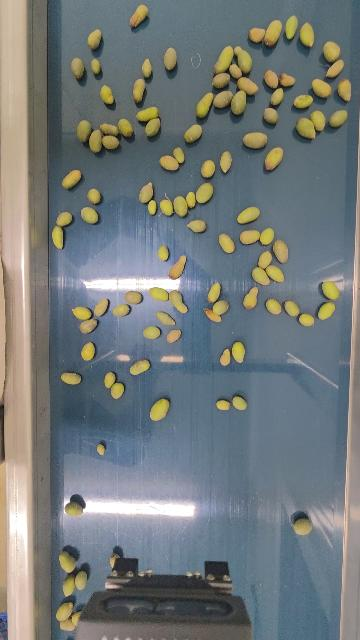Baby Potato: (195, 89, 215, 120), (213, 45, 234, 74), (263, 145, 284, 172), (264, 19, 283, 47), (234, 46, 253, 74), (149, 397, 170, 422), (168, 289, 189, 314), (242, 131, 269, 150), (237, 205, 261, 226), (129, 3, 149, 28), (272, 238, 290, 265), (311, 77, 333, 99), (296, 117, 317, 140), (168, 254, 187, 279), (230, 90, 248, 116), (322, 40, 342, 63), (293, 516, 315, 536), (236, 76, 259, 95), (195, 182, 214, 205), (284, 14, 300, 41), (321, 280, 341, 301), (61, 169, 81, 190), (328, 108, 349, 128), (300, 21, 316, 47), (242, 286, 259, 310), (213, 89, 233, 109), (326, 58, 345, 79), (129, 358, 151, 376), (59, 550, 76, 573), (310, 109, 327, 132), (218, 232, 235, 255), (136, 106, 160, 122), (337, 78, 353, 102), (76, 118, 92, 142), (252, 266, 271, 286), (183, 124, 203, 143), (211, 71, 231, 90), (318, 300, 336, 321), (132, 78, 147, 103), (173, 193, 188, 218), (239, 228, 261, 245), (138, 181, 154, 204), (163, 45, 177, 71), (266, 264, 285, 283), (55, 601, 73, 621), (231, 340, 246, 364), (117, 117, 134, 138), (80, 206, 98, 225), (144, 117, 161, 137), (64, 500, 84, 517), (155, 310, 176, 326), (80, 341, 96, 362), (89, 129, 103, 153), (293, 93, 314, 109), (87, 28, 102, 50), (207, 281, 222, 303), (60, 371, 82, 386), (52, 225, 65, 250), (263, 69, 280, 88), (159, 155, 179, 171), (70, 57, 85, 78), (71, 305, 92, 320), (62, 574, 75, 598), (100, 83, 114, 105), (263, 106, 280, 124), (265, 297, 282, 315), (248, 26, 266, 43), (270, 86, 285, 106), (159, 197, 174, 217), (94, 298, 109, 318), (149, 286, 169, 301), (219, 150, 232, 173), (99, 122, 120, 136), (231, 394, 248, 411), (284, 299, 300, 317), (143, 324, 161, 340), (79, 318, 97, 334), (258, 249, 273, 268), (124, 290, 143, 305), (201, 159, 216, 178), (260, 227, 275, 246), (56, 211, 73, 227), (102, 134, 120, 149), (187, 219, 206, 233), (203, 308, 222, 322), (72, 610, 84, 632), (74, 570, 87, 590), (279, 72, 296, 87), (112, 303, 130, 317), (111, 381, 125, 399), (298, 312, 316, 326), (141, 58, 153, 79), (166, 328, 182, 343), (213, 299, 229, 314), (87, 188, 101, 205), (103, 371, 117, 388), (58, 619, 75, 633), (220, 347, 232, 366), (185, 191, 196, 210), (215, 398, 231, 411), (157, 244, 169, 261), (173, 146, 185, 163), (90, 57, 101, 75), (147, 199, 157, 214), (109, 554, 117, 568), (96, 443, 105, 455)
